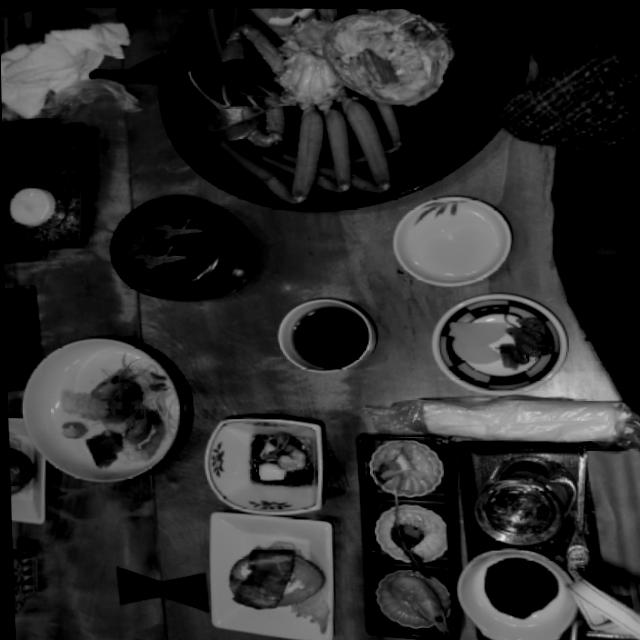刺身生食: (21, 336, 184, 476)
